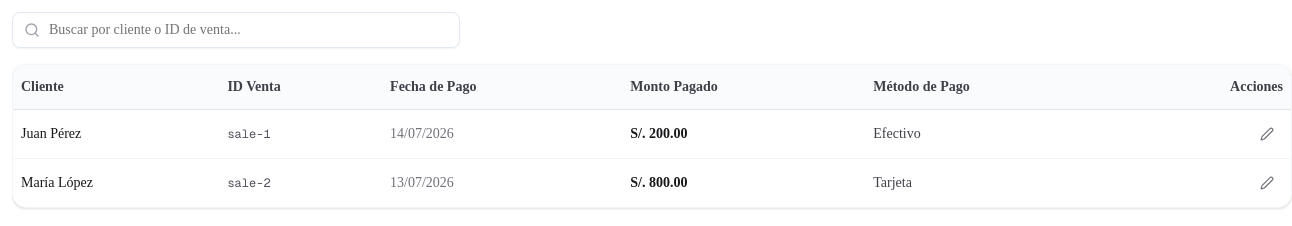
Test: PaymentTable › filtra pagos por nombre del cliente
The width and height of the screenshot is (1292, 226).
Type "Juan" into the field with placeholder "Buscar por cliente o ID de venta...". click: (236, 30)
box: [12,12,460,48]
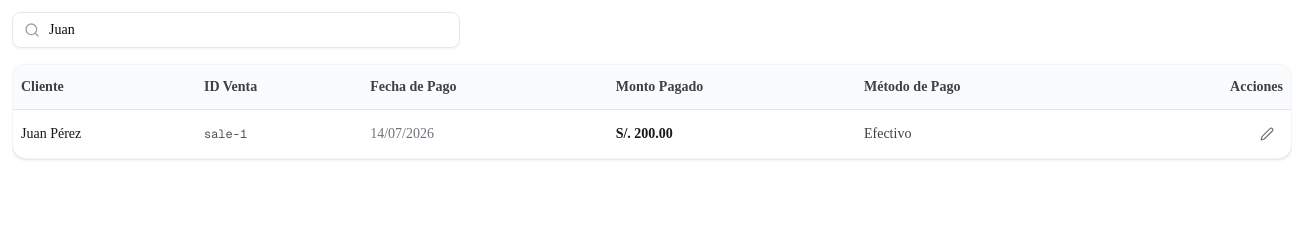
Expected: the text "Juan Pérez" is shown, [13,109,196,158]
Result: the text "María López" is gone
